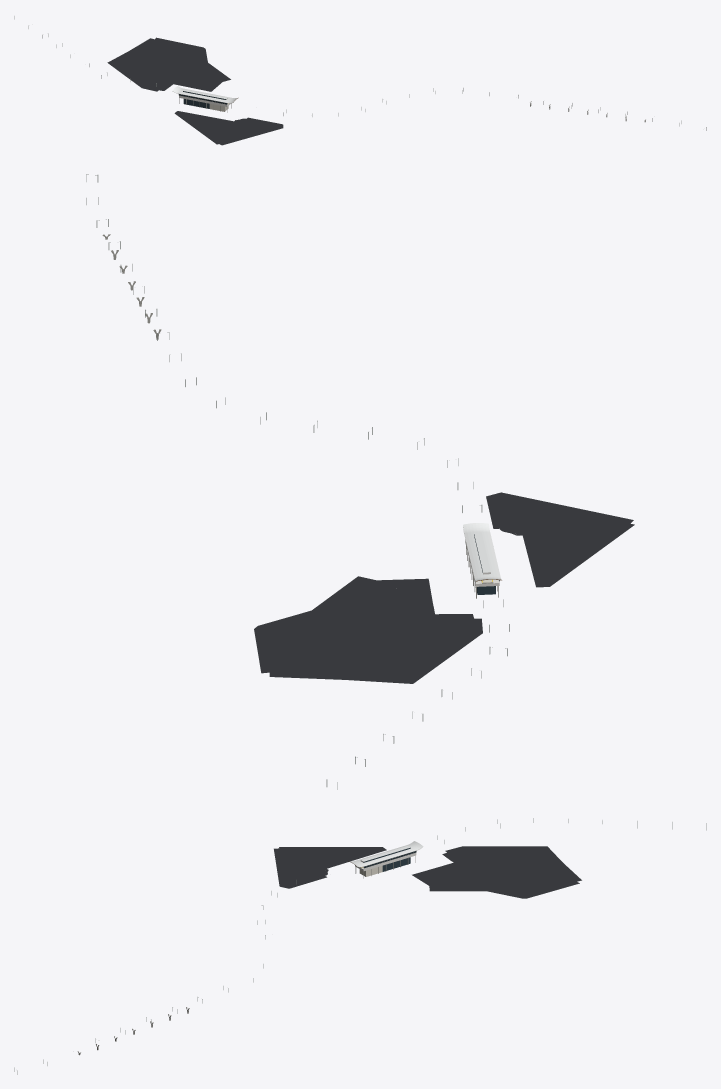
File: br_t127_davies_2_lod1.gltf
The picture shows the model from 3 angles, top to bottom: view 1: azimuth 30°, elevation 25°; view 2: azimuth 150°, elevation 25°; view 3: azimuth 270°, elevation 25°; orthographic projection. The views are drawn at different scales.
Parts seen in each view (by area): view 1: br_t127_davies_2_lod1; view 2: br_t127_davies_2_lod1; view 3: br_t127_davies_2_lod1.
Part boxes in pixels (x1,y1,x2,y2): br_t127_davies_2_lod1: [14, 16, 706, 145]; br_t127_davies_2_lod1: [86, 174, 634, 789]; br_t127_davies_2_lod1: [14, 818, 706, 1074].
Bounding box in the file's own units: 830 × 28.28 × 998.
